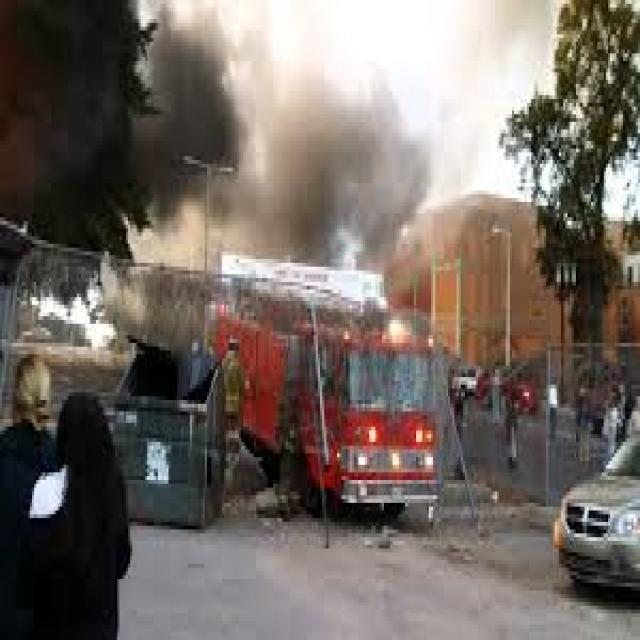Smoke: (139, 0, 439, 298)
